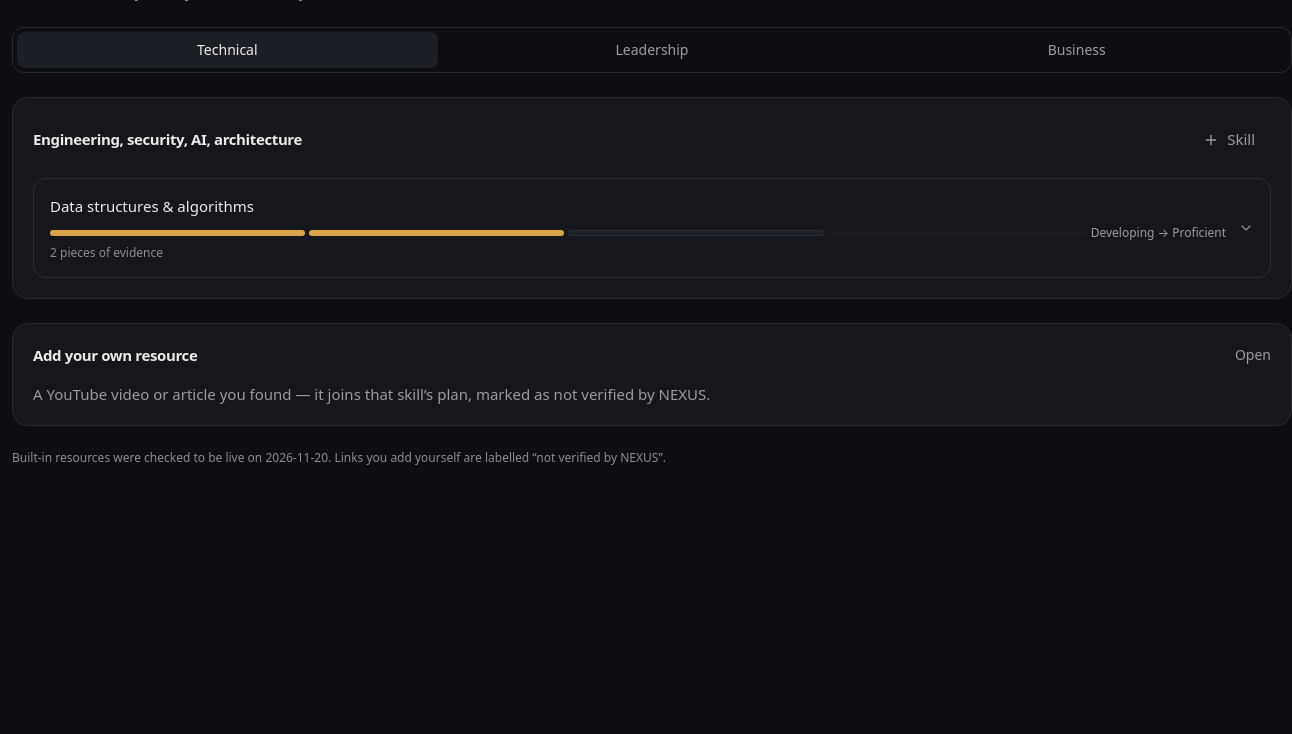
Test: DevelopmentPage › estimates level from evidence and adapts the plan (no intro material once Developing)
The width and height of the screenshot is (1292, 734).
Expected: the text "Developing → Proficient" is shown, [1091,225,1226,241]
Expected: the text "2 pieces of evidence" is shown, [50,244,163,261]
Click the button "Data structures & algorithms" at {"x": 652, "y": 228}, box [34,178,1270,277]
(page scrolled)
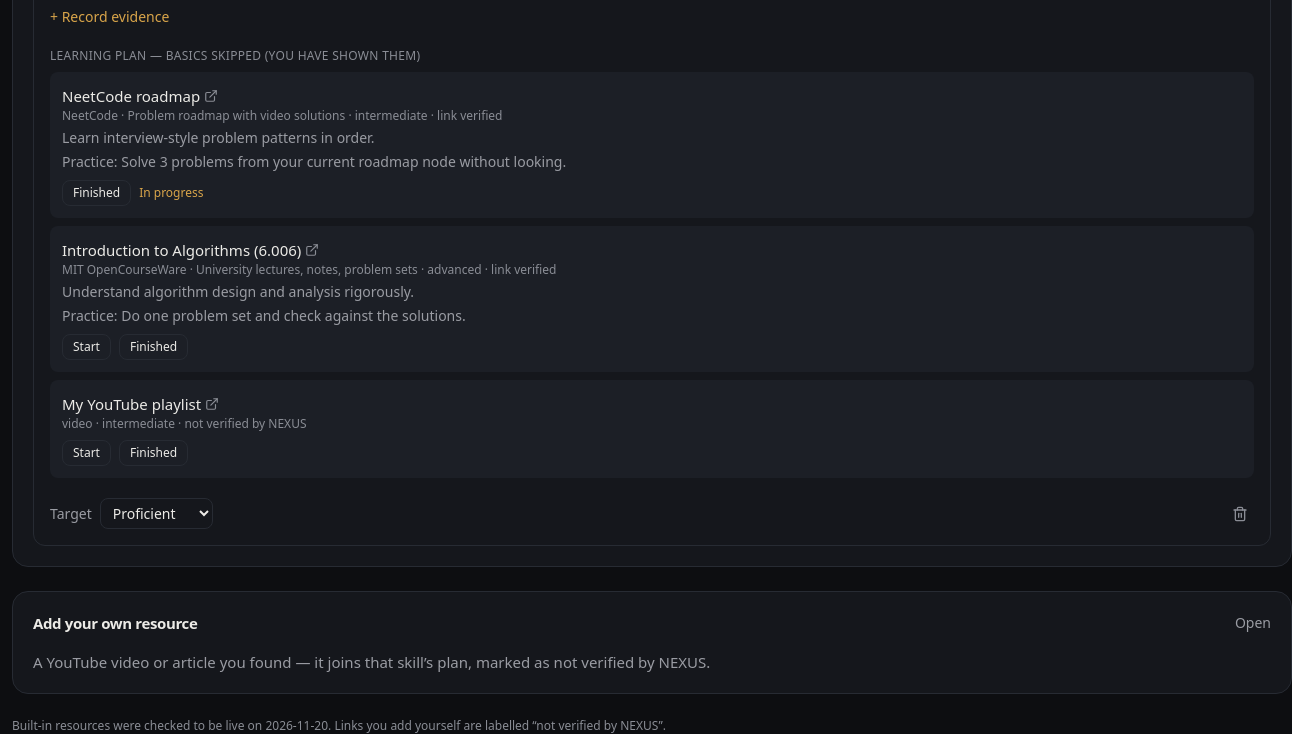
Expected: the heading "Learning plan — basics skipped (you have shown them)" is shown, [50,47,420,64]
Expected: the link "NeetCode roadmap" is shown, [62,85,218,108]
Expected: the text "In progress" is shown, [139,185,204,201]
